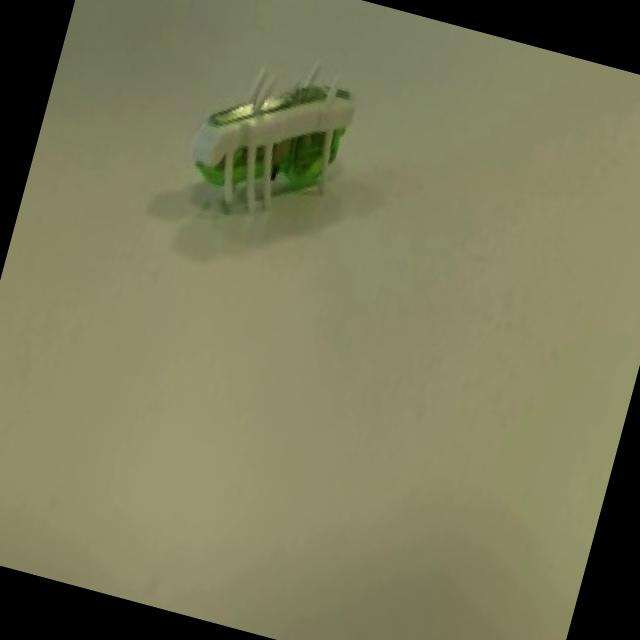4_NanoBug_Blanco: (144, 10, 386, 283)
